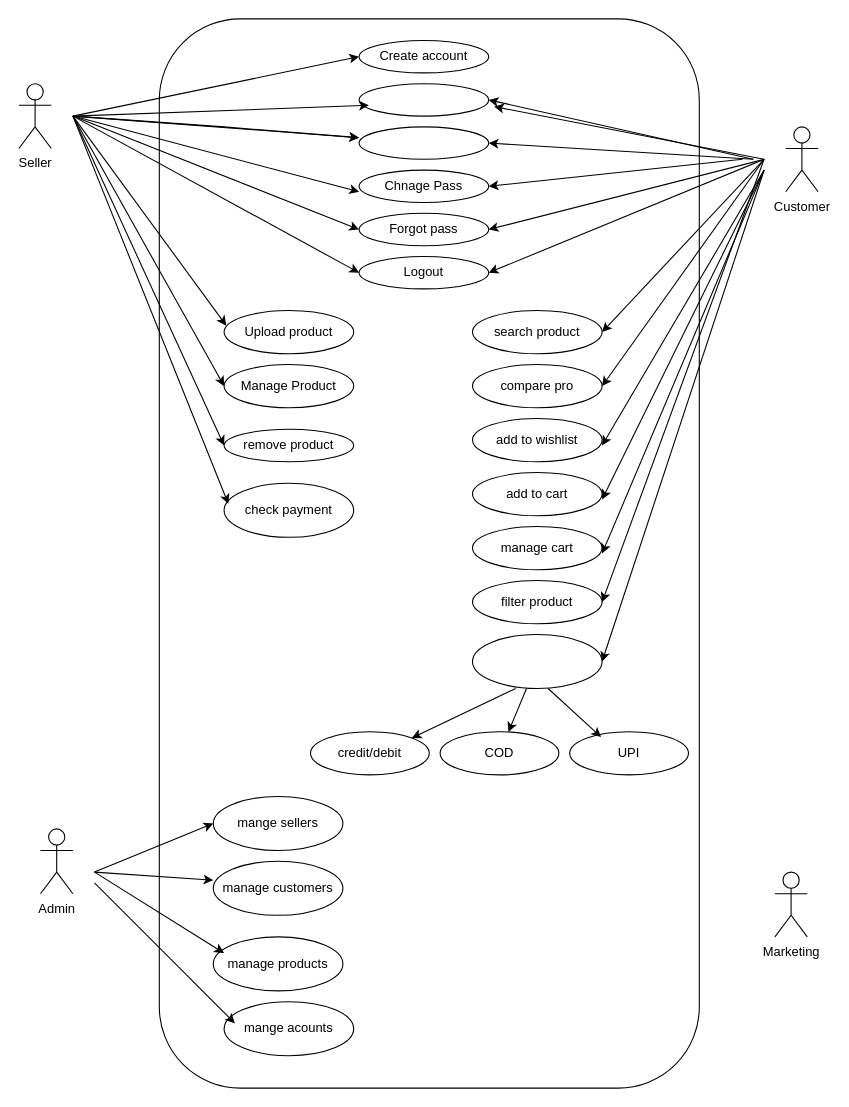
This 849x1107 diagram has some shape labels left out. Each missing label, with the box of its shape:
Login: (358, 83, 489, 116)
Payment: (471, 633, 602, 688)
Profile: (358, 126, 489, 159)
